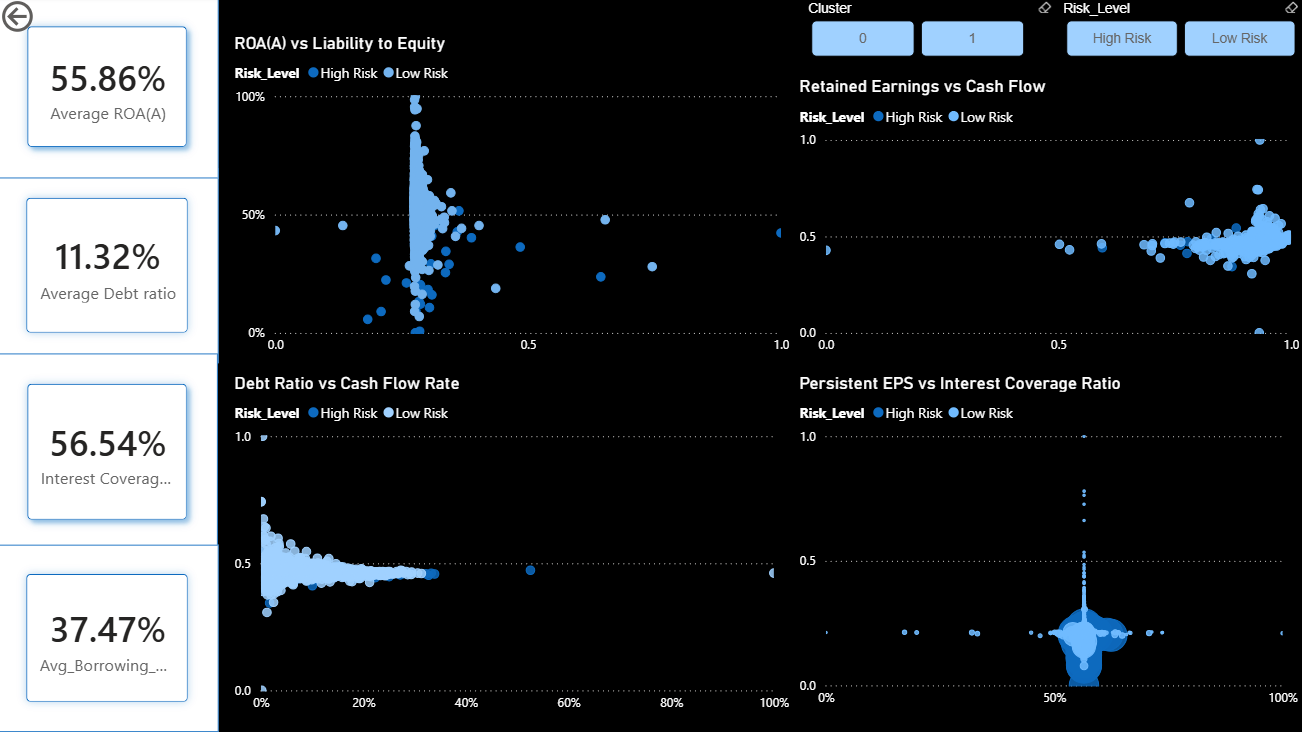

Layout of this report page (visuals, bound fields, positions):
{"tool":"powerbi","page":{"name":"Page 2","canvas":[1280,720],"ordinal":1},"visuals":[{"type":"cardVisual","fields":{"Data":["Avg(BankruptcyData. Debt ratio %)"]},"box":[0,168.8,216.4,190.8],"z":0},{"type":"cardVisual","fields":{"Data":["Avg(BankruptcyData.Interest Coverage (Interest expense to EBIT))"]},"box":[0,350,216.2,193.8],"z":1000},{"type":"cardVisual","fields":{"Data":["BankruptcyData.Avg_Borrowing_Dependency"]},"box":[0,536.8,216.4,183.4],"z":2000},{"type":"cardVisual","fields":{"Data":["Avg(BankruptcyData.ROA(A))"]},"box":[0,0,216.4,178.5],"z":3000},{"type":"scatterChart","title":"ROA(A) vs Liability to Equity ","fields":{"Y":["BankruptcyData.ROA(A)"],"Series":["BankruptcyData.Risk_Level"],"X":["BankruptcyData. Liability to Equity"]},"box":[227.4,35.5,552.7,324.1],"z":4000},{"type":"actionButton","box":[0,0,100,40],"z":5000},{"type":"scatterChart","title":"Retained Earnings vs Cash Flow","fields":{"Series":["BankruptcyData.Risk_Level"],"X":["BankruptcyData. Retained Earnings to Total Assets"],"Y":["BankruptcyData. Cash flow rate"]},"box":[780.2,78.3,498.9,281.3],"z":6000},{"type":"ChicletSlicer1448559807354","fields":{"Category":["BankruptcyData.Risk_Level"]},"box":[1038.2,0,242.1,69.7],"z":7000},{"type":"ChicletSlicer1448559807354","fields":{"Category":["BankruptcyData.Cluster"]},"box":[788.8,0,250,70],"z":8000},{"type":"scatterChart","title":"Debt Ratio vs Cash Flow Rate ","fields":{"X":["BankruptcyData. Debt ratio %"],"Y":["BankruptcyData. Cash flow rate"],"Series":["BankruptcyData.Risk_Level"]},"box":[227.4,368.1,552.7,341.2],"z":9000},{"type":"scatterChart","title":"Persistent EPS vs Interest Coverage Ratio","fields":{"Y":["BankruptcyData.Persistent EPS in Last Four Seasons"],"Series":["BankruptcyData.Risk_Level"],"Size":["Avg(BankruptcyData.XGBoost_Probability)"],"X":["BankruptcyData.Interest Coverage (Interest expense to EBIT)"]},"box":[780.2,368.1,497.7,336.3],"z":10000}]}

Visuals, with their boxes in screenshot pixels (x1, y1, x2, y2), scaled from the page's 1280x720 canvas onto the 1302x732 screenshot:
cardVisual - Avg(BankruptcyData. Debt ratio %): <bbox>0, 172, 220, 366</bbox>
cardVisual - Avg(BankruptcyData.Interest Coverage (Interest expense to EBIT)): <bbox>0, 356, 220, 553</bbox>
cardVisual - BankruptcyData.Avg_Borrowing_Dependency: <bbox>0, 546, 220, 731</bbox>
cardVisual - Avg(BankruptcyData.ROA(A)): <bbox>0, 0, 220, 181</bbox>
"ROA(A) vs Liability to Equity " scatterChart: <bbox>231, 36, 794, 366</bbox>
actionButton: <bbox>0, 0, 102, 41</bbox>
"Retained Earnings vs Cash Flow" scatterChart: <bbox>794, 80, 1301, 366</bbox>
ChicletSlicer1448559807354 - BankruptcyData.Risk_Level: <bbox>1056, 0, 1301, 71</bbox>
ChicletSlicer1448559807354 - BankruptcyData.Cluster: <bbox>802, 0, 1057, 71</bbox>
"Debt Ratio vs Cash Flow Rate " scatterChart: <bbox>231, 374, 794, 721</bbox>
"Persistent EPS vs Interest Coverage Ratio" scatterChart: <bbox>794, 374, 1300, 716</bbox>
